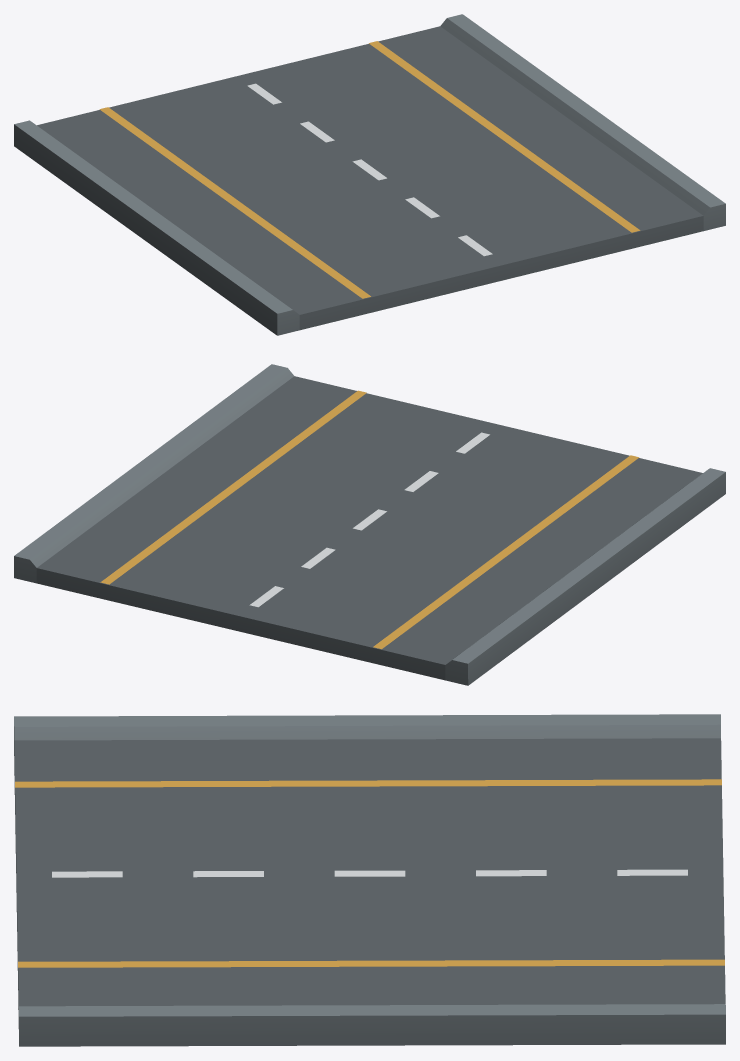
Rendered from road_straight.017_lev3.glb.
3 renders of one model, top to bottom at view 1: azimuth 30°, elevation 25°; view 2: azimuth 150°, elevation 25°; view 3: azimuth 270°, elevation 25°, orthographic. The views are drawn at different scales.
Parts seen in each view (by area): view 1: road_straight.017_lev3; view 2: road_straight.017_lev3; view 3: road_straight.017_lev3.
Part boxes in pixels (x1,y1,x2,y2): road_straight.017_lev3: [14, 14, 725, 335]; road_straight.017_lev3: [14, 364, 725, 685]; road_straight.017_lev3: [14, 714, 725, 1046].
Bounding box in the file's own units: 8.97 × 0.4379 × 8.97.
1 material, 1 textured.
